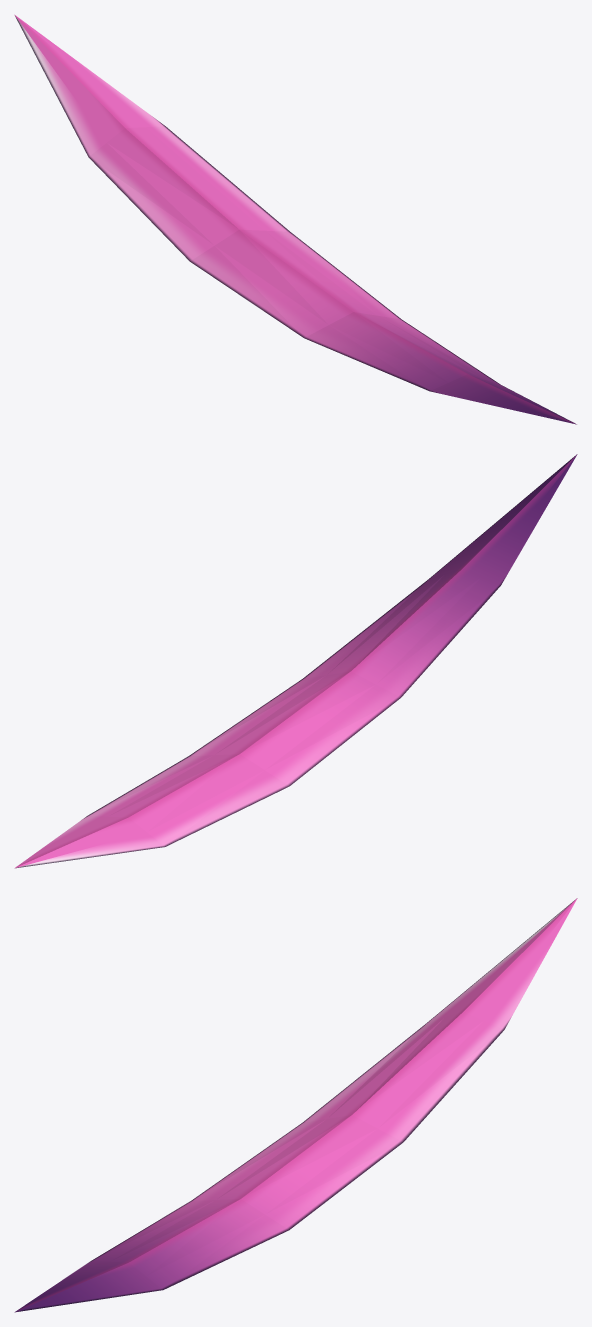
File: senbon_petal_b.fbx
3 views of the same model, one above another, from view 1: azimuth 30°, elevation 25°; view 2: azimuth 150°, elevation 25°; view 3: azimuth 330°, elevation 25° (orthographic).
Parts seen in each view (by area): view 1: senbon_petal_b; view 2: senbon_petal_b; view 3: senbon_petal_b.
Boxes of the visible parts, x1=… form: senbon_petal_b: x1=14, y1=14, x2=576, y2=424; senbon_petal_b: x1=14, y1=454, x2=577, y2=868; senbon_petal_b: x1=14, y1=898, x2=577, y2=1312.
Bounding box in the file's own units: 0.0774 × 0.0579 × 0.748.
1 material, 1 textured.
